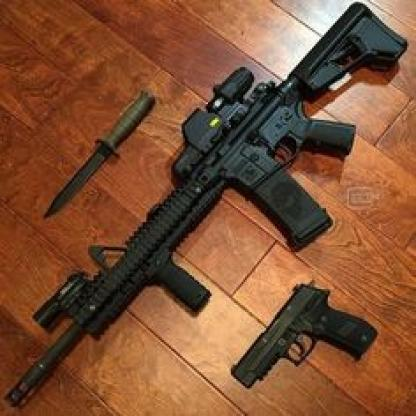Gun: (2, 0, 410, 411)
Knife: (41, 89, 157, 220)
Pistol: (229, 279, 379, 391)
